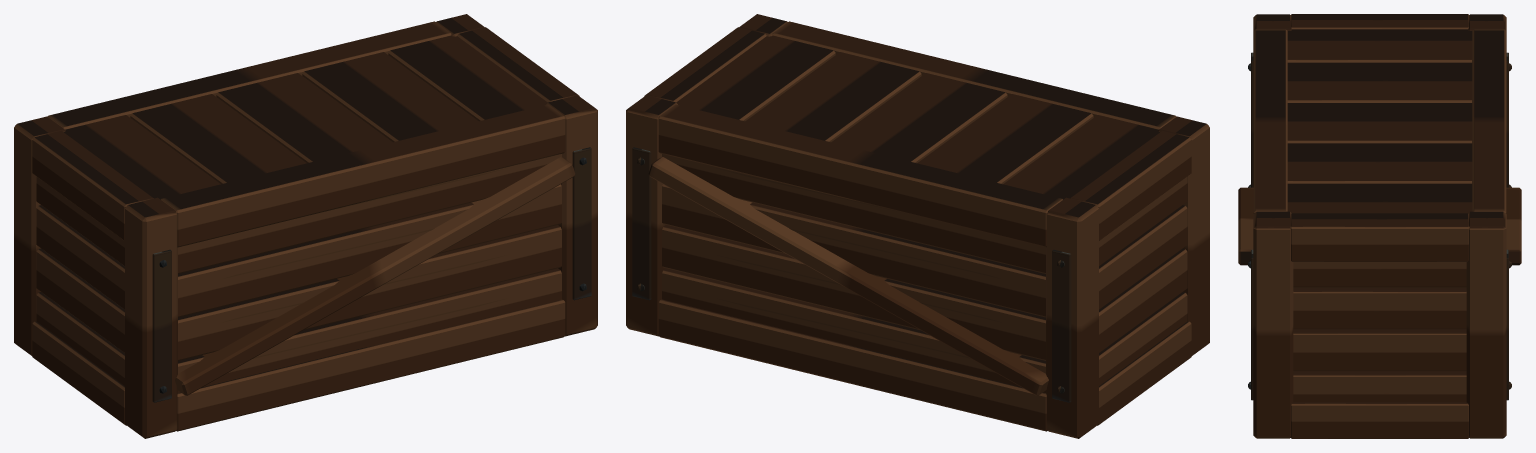
Rendered from Crate_Long.fbx.
3 renders of one model, left to right at view 1: azimuth 30°, elevation 25°; view 2: azimuth 150°, elevation 25°; view 3: azimuth 270°, elevation 25°, orthographic. The views are drawn at different scales.
Parts seen in each view (by area): view 1: Crate_Long; view 2: Crate_Long; view 3: Crate_Long.
Part boxes in pixels (left/top/right/bottom): Crate_Long: left=14, top=14, right=597, bottom=438; Crate_Long: left=626, top=14, right=1209, bottom=438; Crate_Long: left=1238, top=14, right=1521, bottom=438.
Size of the model in its own units: 1.4 by 0.65 by 0.783.
Materials: 2 (2 with a texture image).
